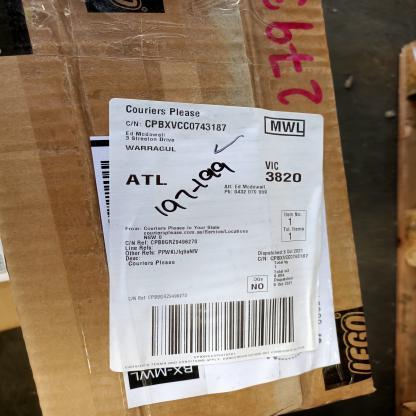label: (109, 99, 322, 369)
package: (0, 0, 376, 416)
